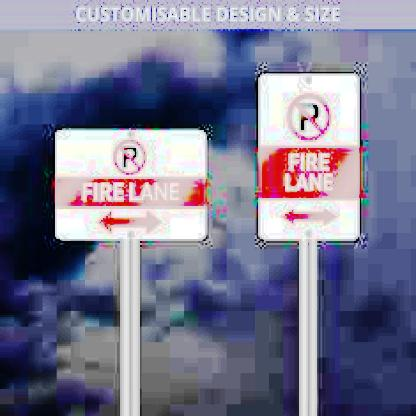No parking: (286, 89, 336, 143), (114, 135, 151, 176)
